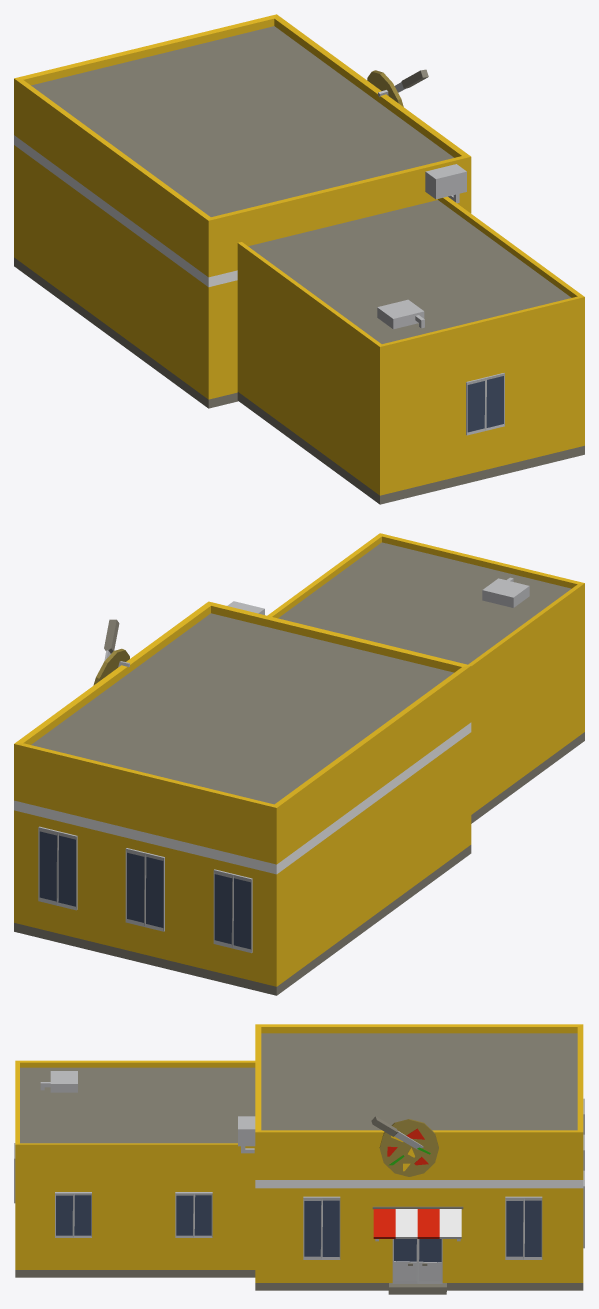
Rendered from pizzatoko.gltf.
3 views of the same model, one above another, from view 1: azimuth 30°, elevation 25°; view 2: azimuth 150°, elevation 25°; view 3: azimuth 270°, elevation 25° (orthographic). The views are drawn at different scales.
Parts seen in each view (by area): view 1: Cube.009; view 2: Cube.009; view 3: Cube.009.
Boxes of the visible parts, <box> form: Cube.009: <box>14,14,584,504</box>; Cube.009: <box>14,533,584,995</box>; Cube.009: <box>14,1024,584,1294</box>.
Size of the model in its own units: 1.6 by 1.1 by 3.11.
